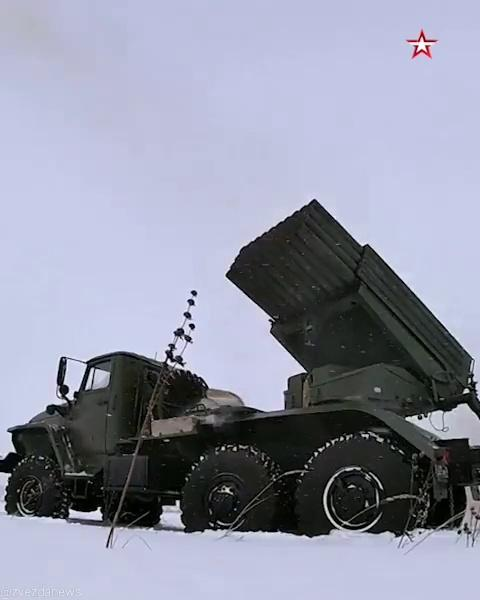MIL_SAM_TEL: (0, 200, 478, 536)
